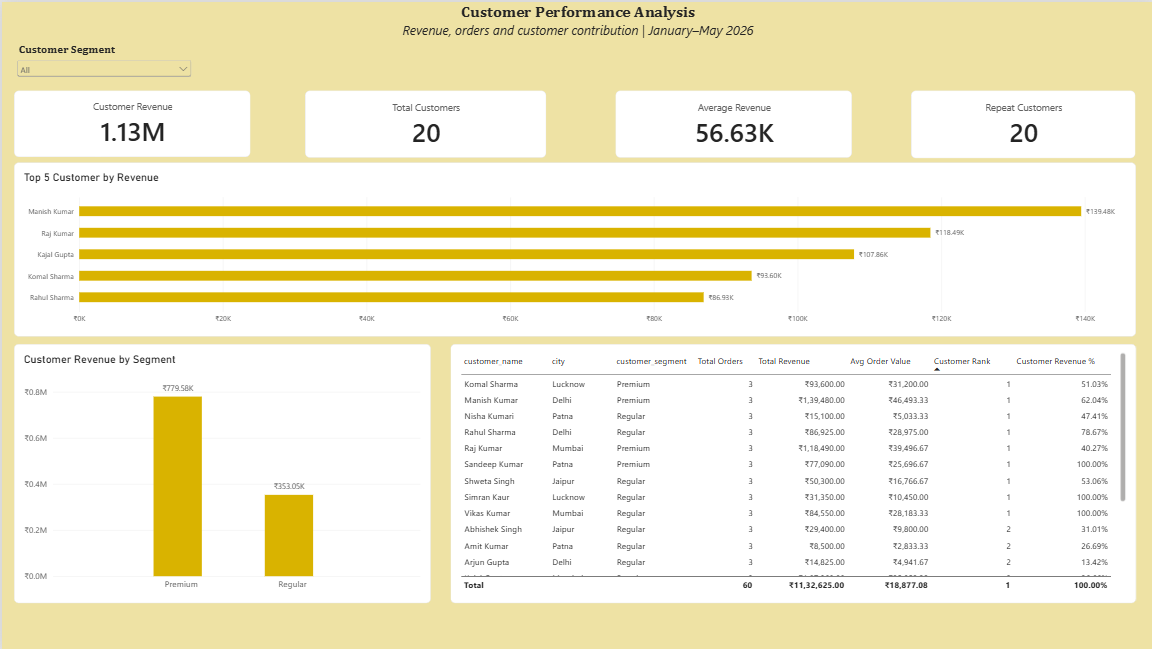

The dashboard page shown, as its layout file describes it:
{"tool":"powerbi","page":{"name":"Customer Analysis","canvas":[1920,1080],"ordinal":1},"visuals":[{"type":"textbox","box":[0,0,1920,67.5],"z":0},{"type":"cardVisual","fields":{"Data":["sales.Customer Revenue"]},"box":[20.2,148.5,394.9,111.1],"z":1000},{"type":"cardVisual","fields":{"Data":["sales.Total Customers"]},"box":[505.1,147.5,402,112.1],"z":2000},{"type":"cardVisual","fields":{"Data":["sales.Average Revenue"]},"box":[1023.2,147.5,394.9,112.1],"z":3000},{"type":"cardVisual","fields":{"Data":["sales.Repeat Customers"]},"box":[1515.2,146.5,374.7,113.1],"z":4000},{"type":"clusteredBarChart","title":"Top 5 Customer by Revenue","fields":{"Category":["customers.customer_name"],"Y":["sales.Total Revenue"]},"box":[21.4,268.4,1869.4,343.9],"z":5000},{"type":"clusteredColumnChart","title":"Customer Revenue by Segment","fields":{"Category":["customers.customer_segment"],"Y":["sales.Total Revenue"]},"box":[21.6,622.2,694.9,432.3],"z":6000},{"type":"tableEx","fields":{"Values":["customers.customer_name","customers.city","customers.customer_segment","sales.Total Orders","sales.Total Revenue","sales.Avg Order Value","sales.Customer Rank","sales.Customer Revenue %"]},"box":[748.5,622.2,1142.4,432.3],"z":7000},{"type":"slicer","fields":{"Values":["customers.customer_segment"]},"box":[20.2,67.7,300,67.5],"z":8000}]}

Visuals, with their boxes in screenshot pixels (x1, y1, x2, y2), scaled from the page's 1920x1080 canvas onto the 1152x649 screenshot:
textbox: x1=0 y1=0 x2=1151 y2=41
cardVisual - sales.Customer Revenue: x1=12 y1=89 x2=249 y2=156
cardVisual - sales.Total Customers: x1=303 y1=89 x2=544 y2=156
cardVisual - sales.Average Revenue: x1=614 y1=89 x2=851 y2=156
cardVisual - sales.Repeat Customers: x1=909 y1=88 x2=1134 y2=156
"Top 5 Customer by Revenue" clusteredBarChart: x1=13 y1=161 x2=1134 y2=368
"Customer Revenue by Segment" clusteredColumnChart: x1=13 y1=374 x2=430 y2=634
tableEx - customers.customer_name x customers.city: x1=449 y1=374 x2=1135 y2=634
slicer - customers.customer_segment: x1=12 y1=41 x2=192 y2=81
